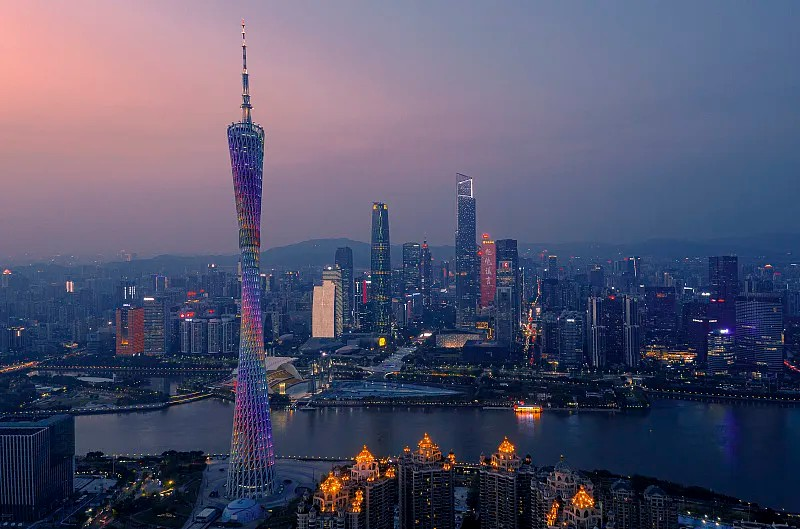Canton: (215, 13, 288, 502)
